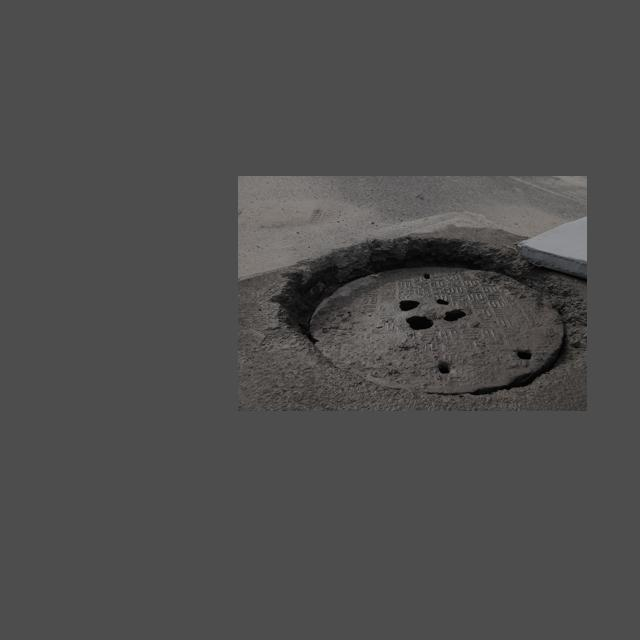broke: (309, 266, 565, 393)
